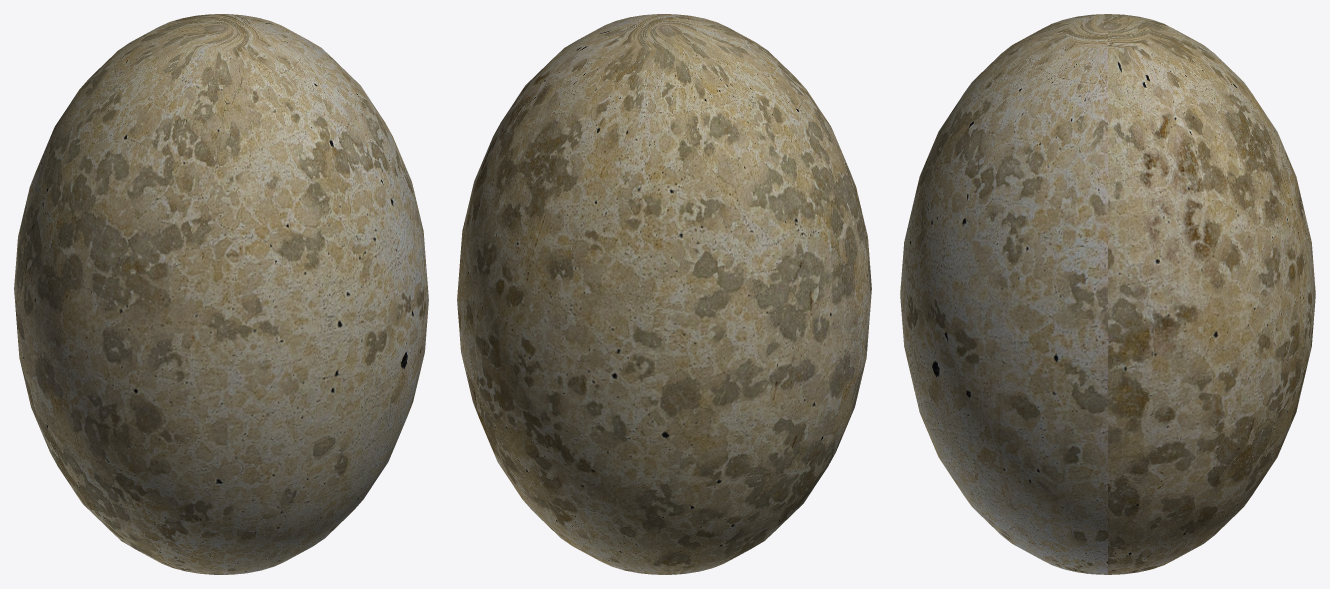
The model's file is Dino_Egg.FBX.
3 views of the same model, side by side, from view 1: azimuth 30°, elevation 25°; view 2: azimuth 150°, elevation 25°; view 3: azimuth 270°, elevation 25° (orthographic).
Visible parts, largest first — view 1: Sphere001; view 2: Sphere001; view 3: Sphere001.
Boxes of the visible parts, x1,y1,x2,y2 form: Sphere001: (14, 14, 428, 574); Sphere001: (457, 14, 871, 574); Sphere001: (900, 14, 1315, 574).
Bounding box in the file's own units: 352 × 499 × 352.
Materials: 1 (1 with a texture image).
